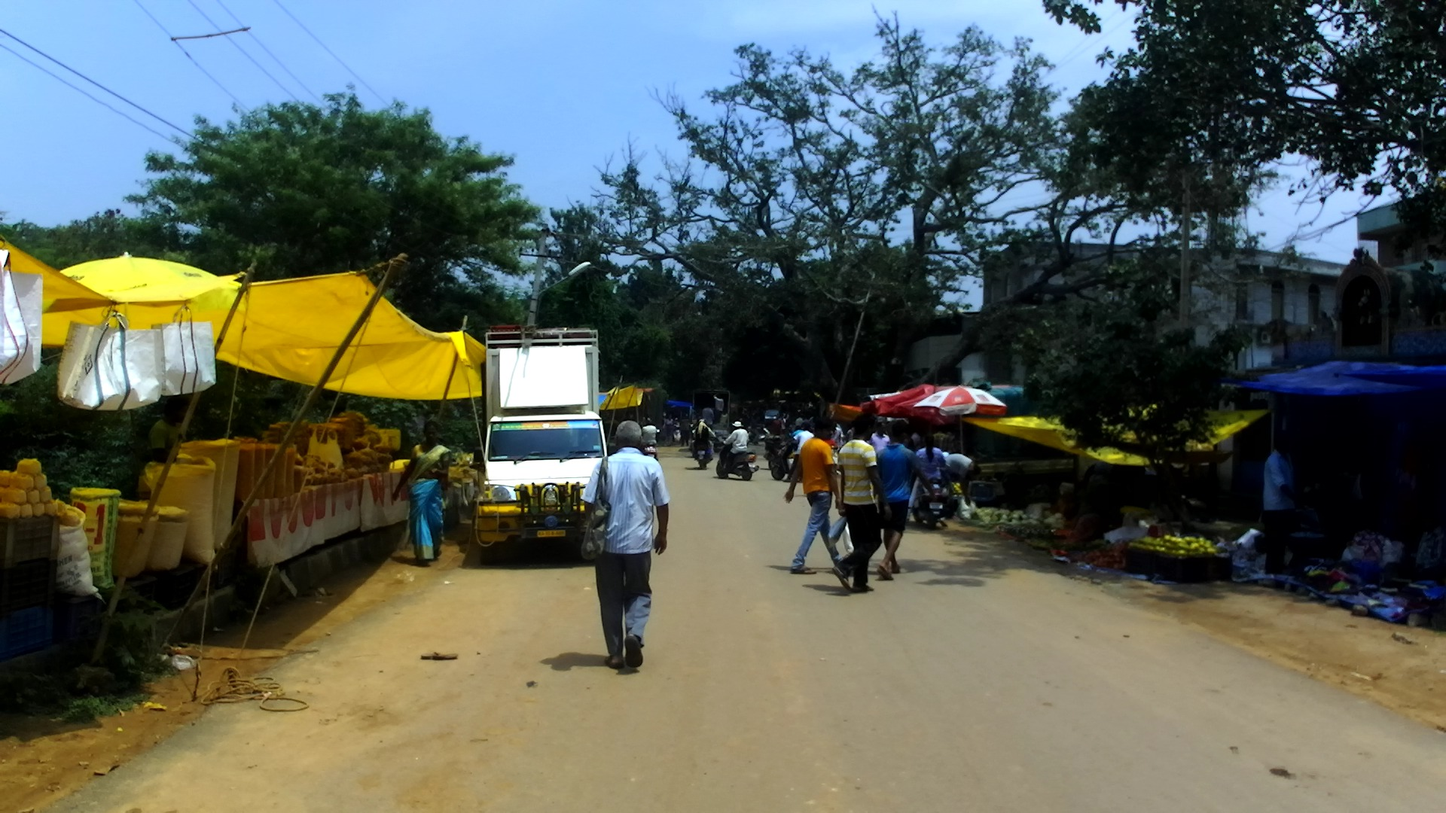car: (764, 410, 782, 429)
motorcycle: (911, 451, 950, 529), (715, 436, 759, 479), (771, 440, 807, 480), (693, 429, 715, 468), (642, 428, 661, 464), (747, 425, 771, 445), (673, 425, 682, 444)
person: (583, 420, 670, 670), (785, 414, 852, 574), (871, 418, 934, 584), (834, 419, 891, 591), (391, 419, 450, 566), (1261, 431, 1301, 577), (149, 394, 191, 469), (942, 452, 981, 506), (871, 422, 889, 457), (664, 413, 676, 448), (712, 394, 724, 424), (680, 413, 690, 447), (831, 422, 843, 449), (703, 404, 713, 428), (772, 415, 782, 437), (787, 425, 802, 438), (780, 413, 788, 437), (847, 426, 855, 446), (796, 414, 805, 429)
rider: (908, 435, 945, 523), (719, 421, 750, 477), (785, 428, 813, 483), (691, 419, 712, 462), (696, 419, 717, 458), (642, 418, 657, 449), (750, 410, 758, 446)
truck: (468, 325, 603, 564), (959, 441, 1107, 514), (693, 389, 729, 449)
vehicle fallback: (764, 434, 795, 475)
